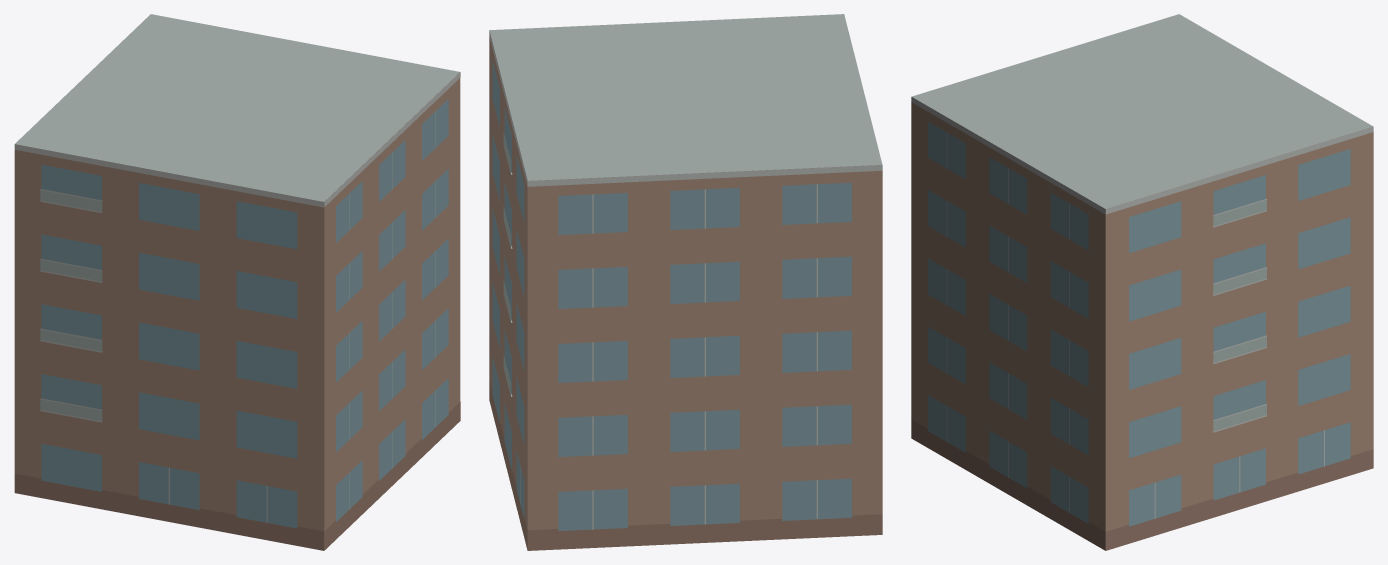
The model's file is residential-c9416b0b-093e-462e-a6f4-1fb21dec2f2b.glb.
3 views of the same model, side by side, from view 1: azimuth 30°, elevation 25°; view 2: azimuth 150°, elevation 25°; view 3: azimuth 270°, elevation 25° (orthographic). The views are drawn at different scales.
Visible parts, largest first — view 1: residential-c9416b0b-093e-462e-a6f4-1fb21dec2f2b.tmp; view 2: residential-c9416b0b-093e-462e-a6f4-1fb21dec2f2b.tmp; view 3: residential-c9416b0b-093e-462e-a6f4-1fb21dec2f2b.tmp.
Part boxes in pixels (x1,y1,x2,y2): residential-c9416b0b-093e-462e-a6f4-1fb21dec2f2b.tmp: (14, 14, 460, 550); residential-c9416b0b-093e-462e-a6f4-1fb21dec2f2b.tmp: (489, 14, 882, 550); residential-c9416b0b-093e-462e-a6f4-1fb21dec2f2b.tmp: (911, 14, 1373, 550).
Bounding box in the file's own units: 18.68 × 15.25 × 18.7.
